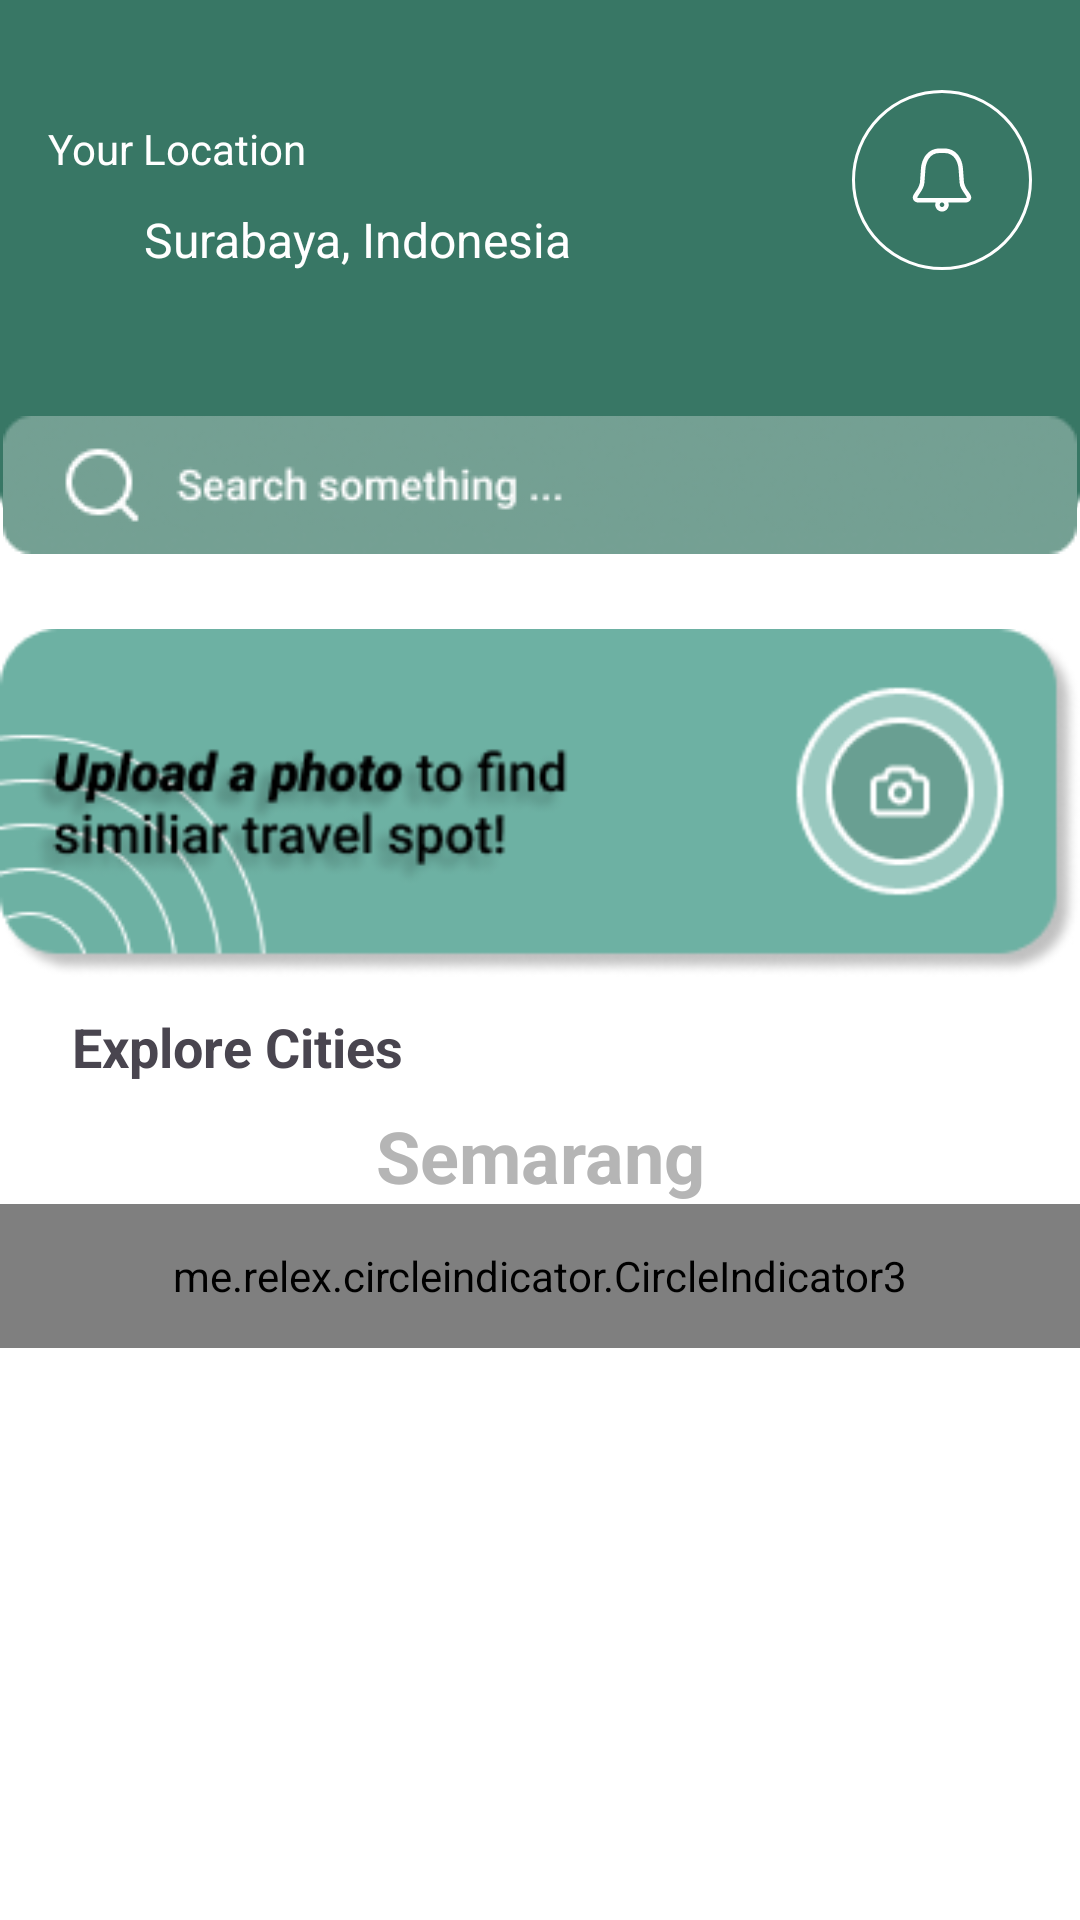

Where to tap for icons on this 1080*1920 app screen, as [x,y]:
notification: [942,180]
